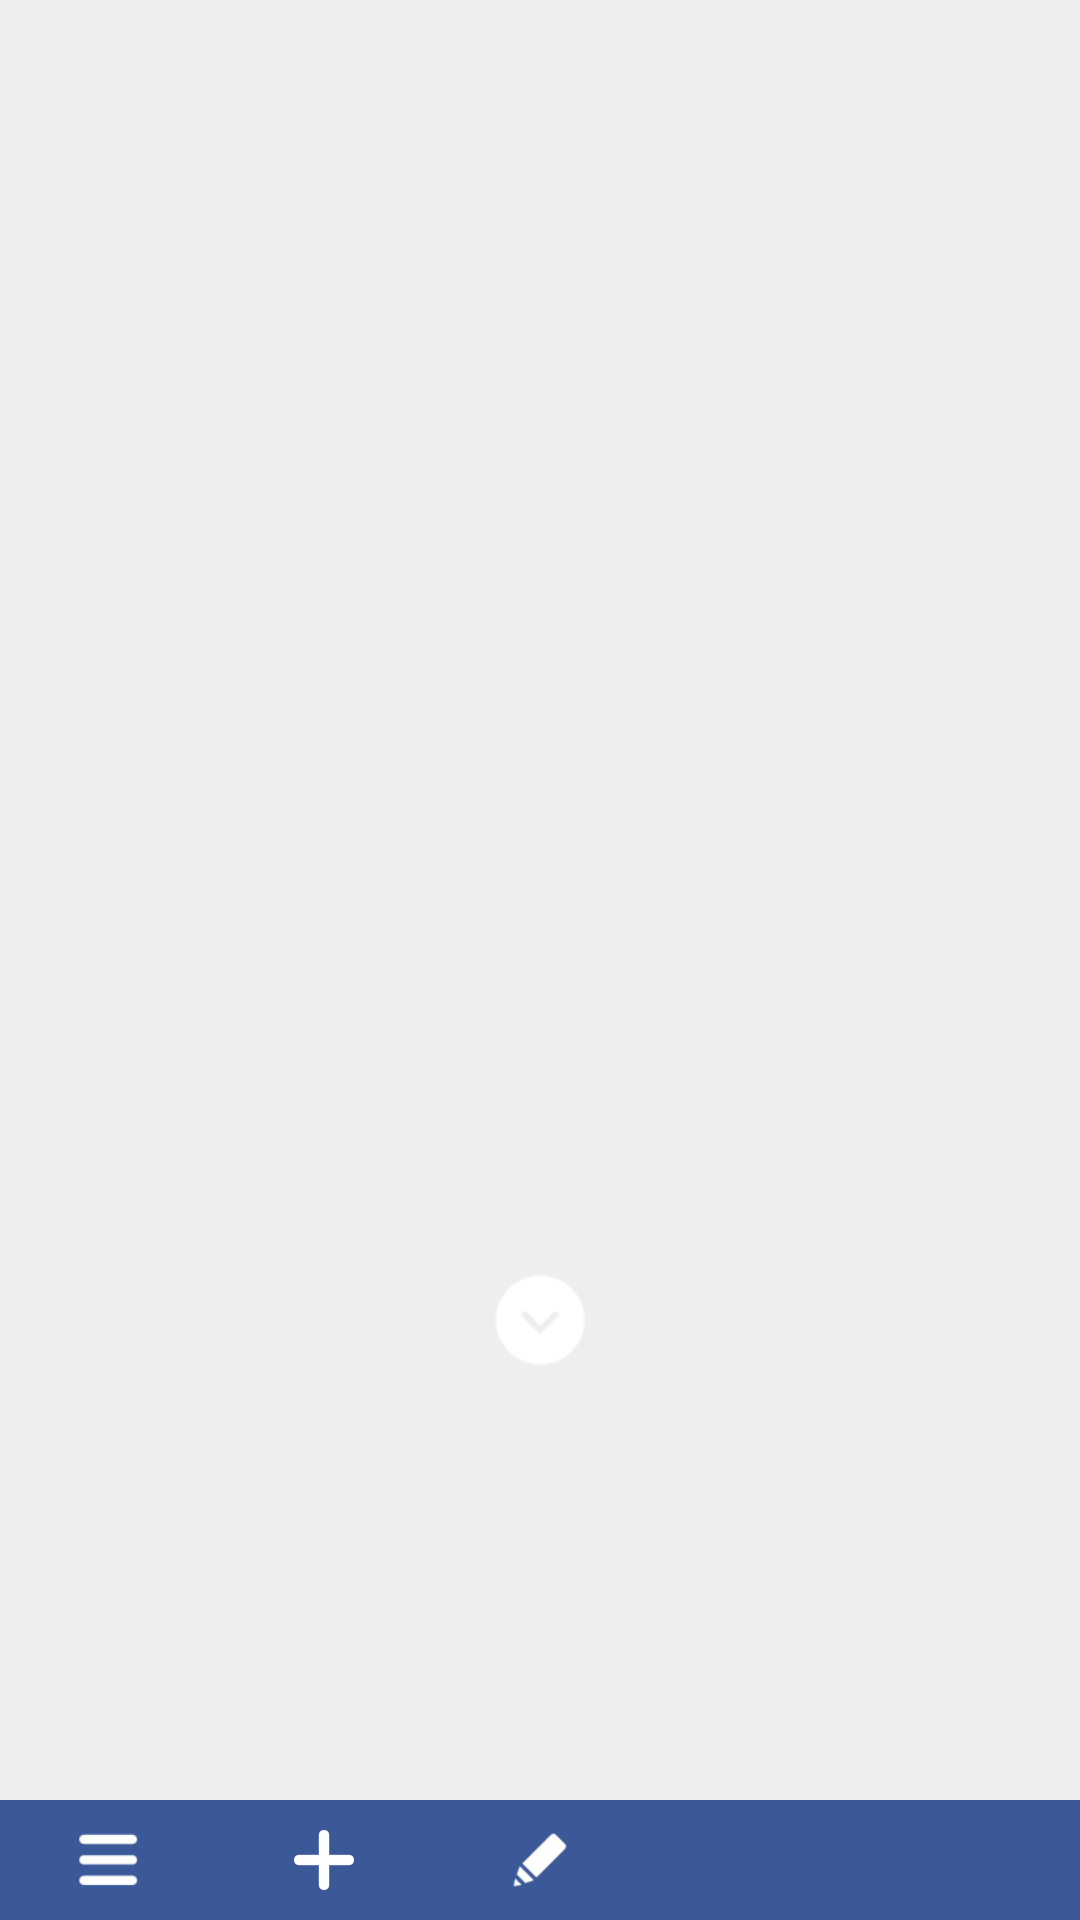

Icon click points for this 1080w x 1920h phone screenshot, format (x=x, y=y):
menu: (x=108, y=1859)
pen: (x=540, y=1860)
plus: (x=324, y=1860)
